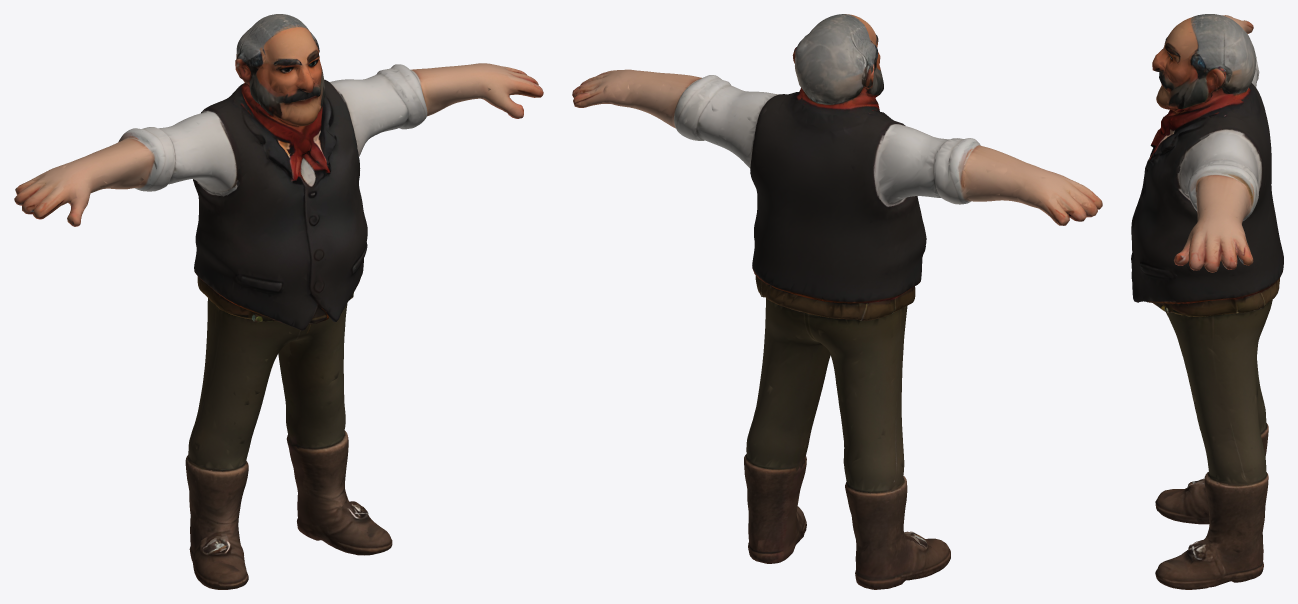
File: don_ceferino_mixamo.fbx
The picture shows the model from 3 angles, left to right: view 1: azimuth 30°, elevation 25°; view 2: azimuth 150°, elevation 25°; view 3: azimuth 270°, elevation 25°; orthographic projection.
Parts seen in each view (by area): view 1: don_ceferino; view 2: don_ceferino; view 3: don_ceferino.
Part boxes in pixels (box(x1,y1,x2,y2)): don_ceferino: box(14, 14, 543, 589); don_ceferino: box(572, 14, 1102, 589); don_ceferino: box(1131, 14, 1283, 589).
Size of the model in its own units: 168 by 168 by 43.84.
Materials: 1 (1 with a texture image).
